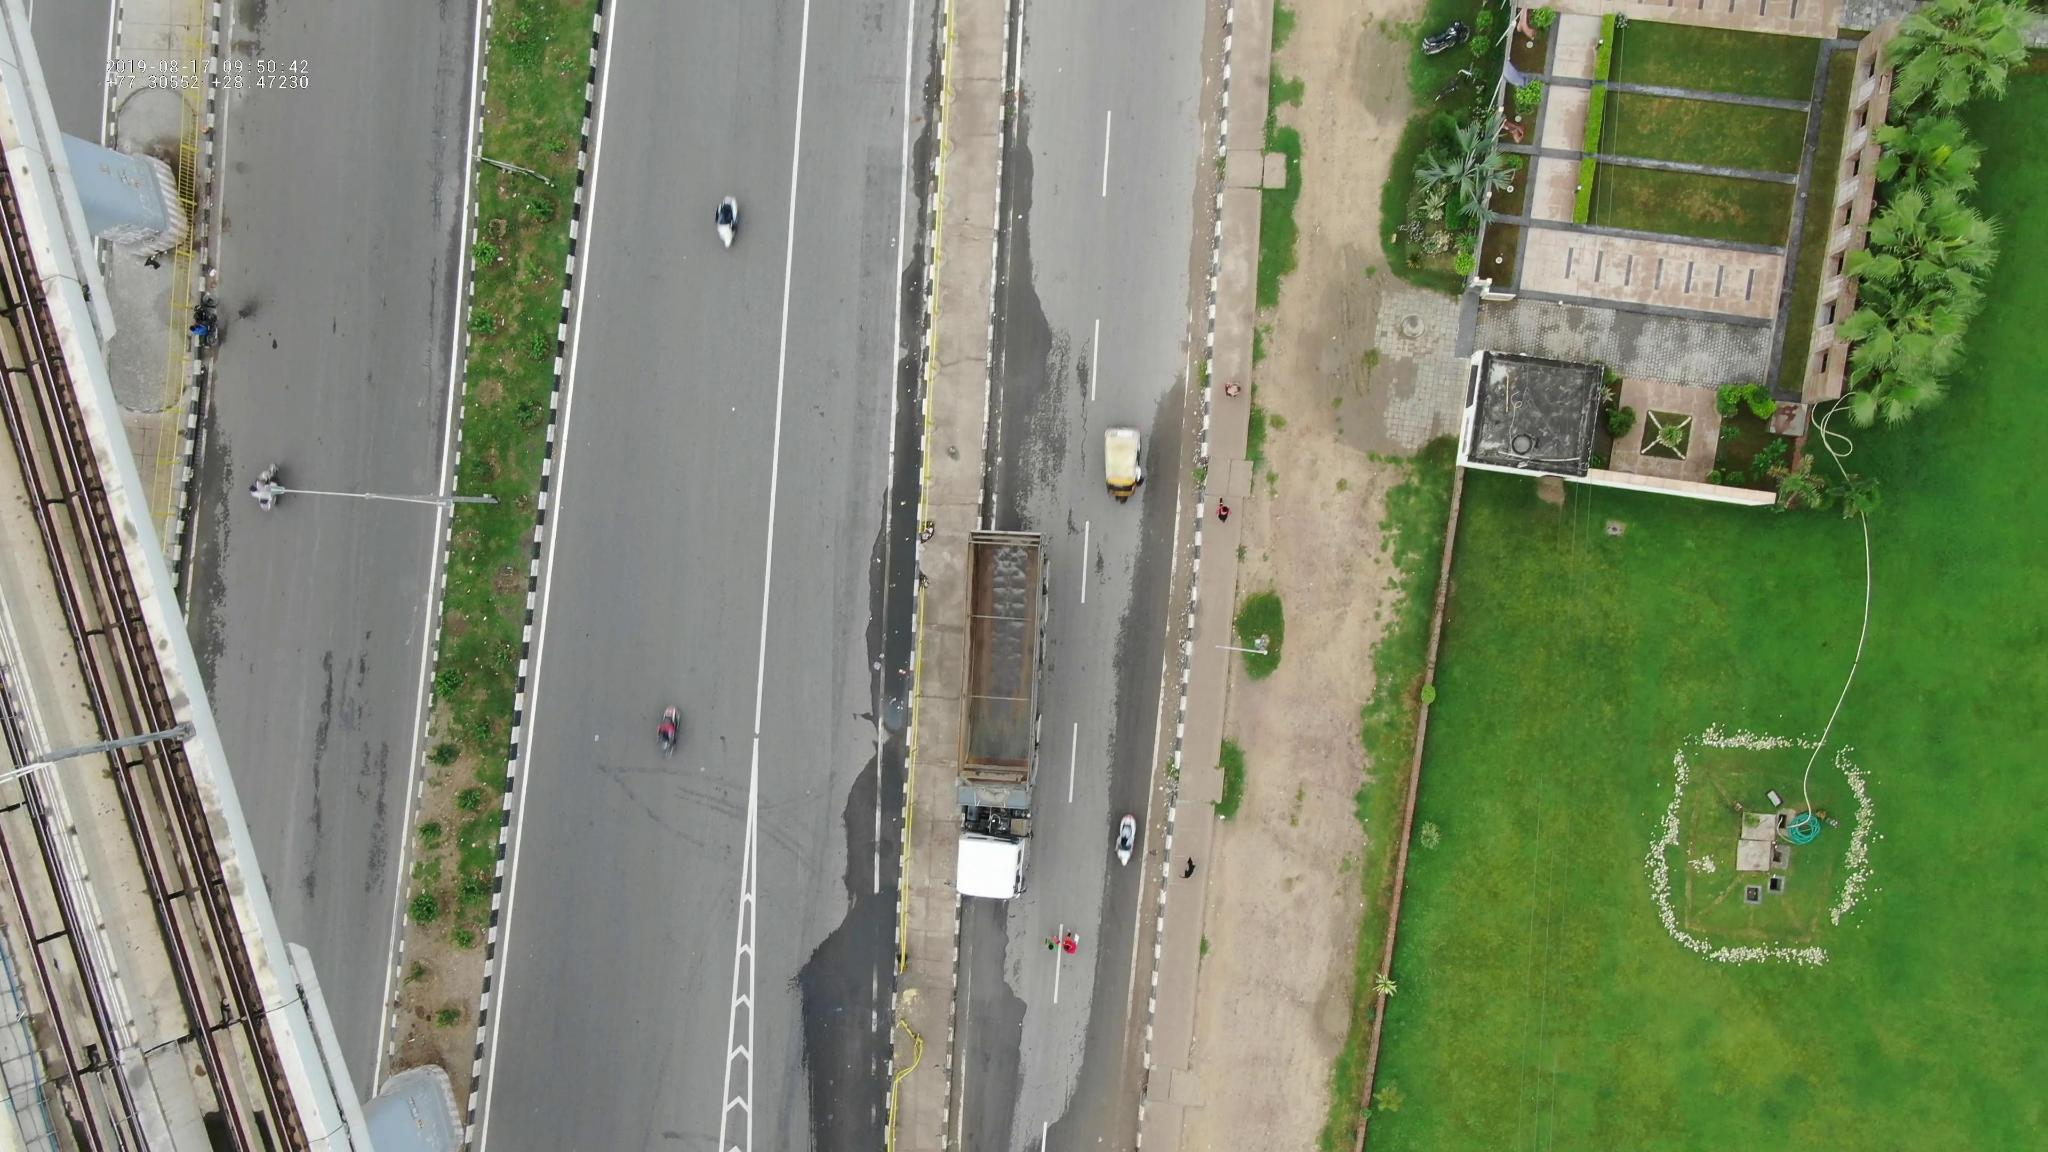Waterlogging: (812, 843, 888, 1152), (845, 527, 916, 706), (959, 990, 1027, 1144)
